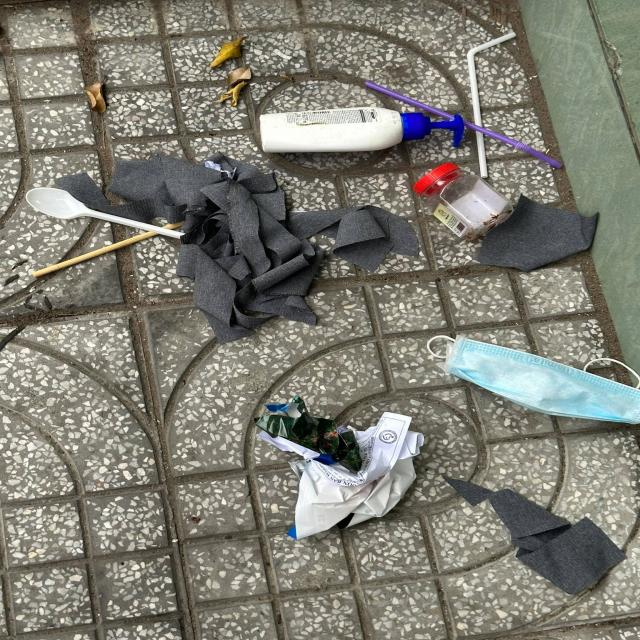bottle: (260, 106, 464, 153)
clothes: (54, 151, 418, 345), (440, 472, 628, 595), (476, 192, 600, 273)
drinking straw: (365, 81, 563, 169), (466, 32, 516, 177)
mask: (427, 335, 640, 426)
paper: (252, 396, 424, 542)
plastic holder: (414, 161, 514, 240)
plastic utensil: (25, 187, 184, 238)
